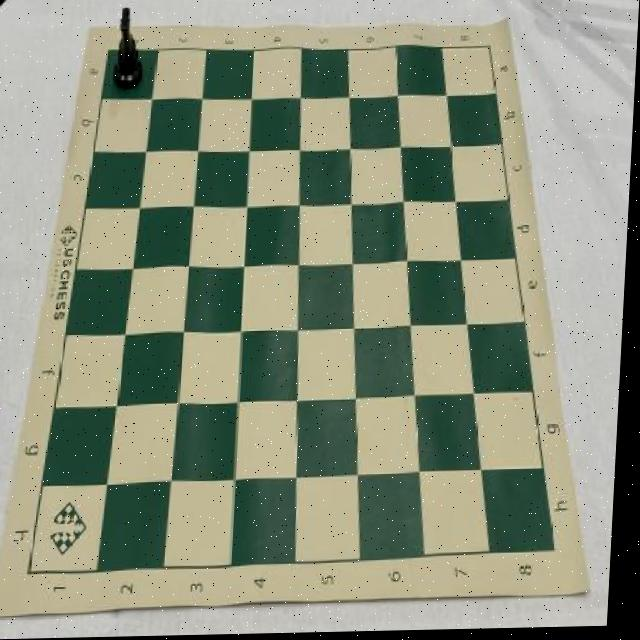black-king: (112, 6, 146, 91)
